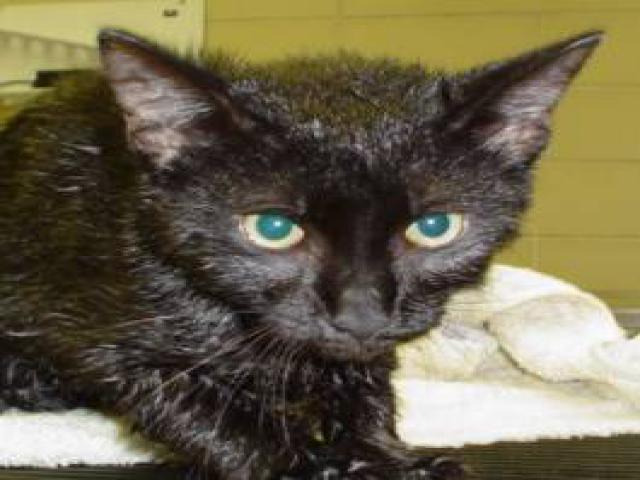cat: (3, 22, 610, 473)
